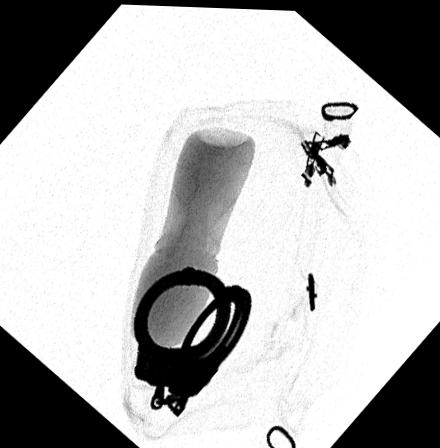HandCuffs: (133, 263, 252, 415)
